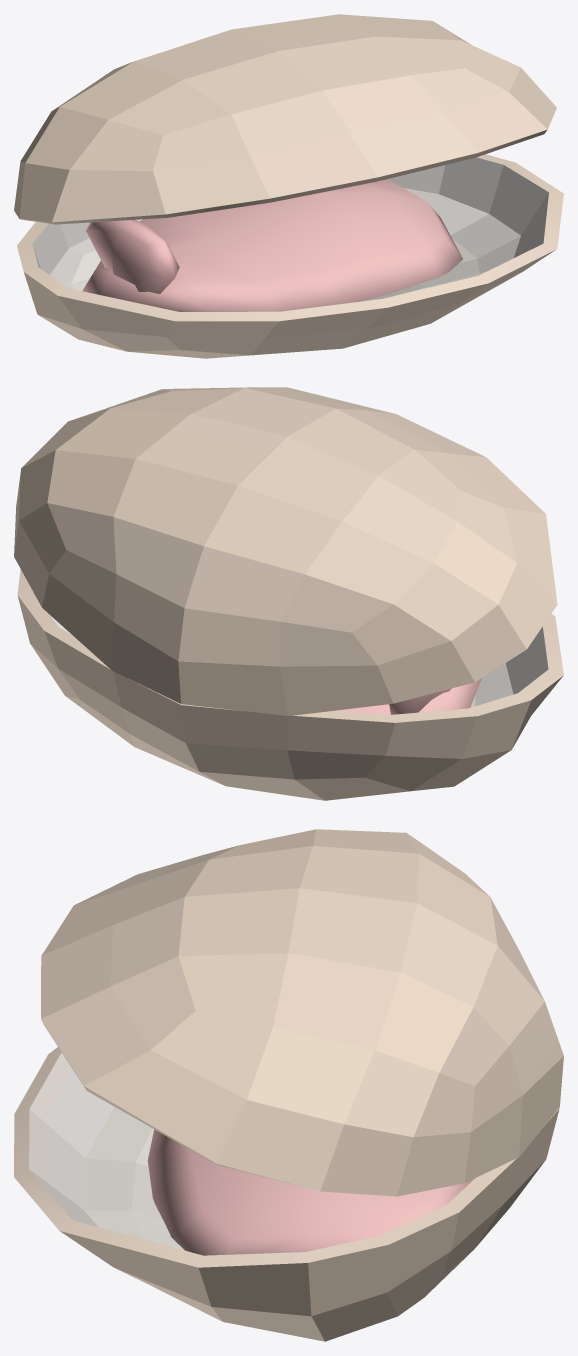
File: 8675QcluLQX.glb
The picture shows the model from 3 angles, top to bottom: view 1: azimuth 30°, elevation 25°; view 2: azimuth 150°, elevation 25°; view 3: azimuth 270°, elevation 25°; orthographic projection. The views are drawn at different scales.
Parts seen in each view (by area): view 1: Geo_Clam; view 2: Geo_Clam; view 3: Geo_Clam.
Boxes of the visible parts, bbox=[...] form: Geo_Clam: bbox=[14, 14, 563, 358]; Geo_Clam: bbox=[14, 387, 563, 800]; Geo_Clam: bbox=[14, 829, 563, 1341].
Bounding box in the file's own units: 1.73 × 1 × 1.31.
1 material, 1 textured.
